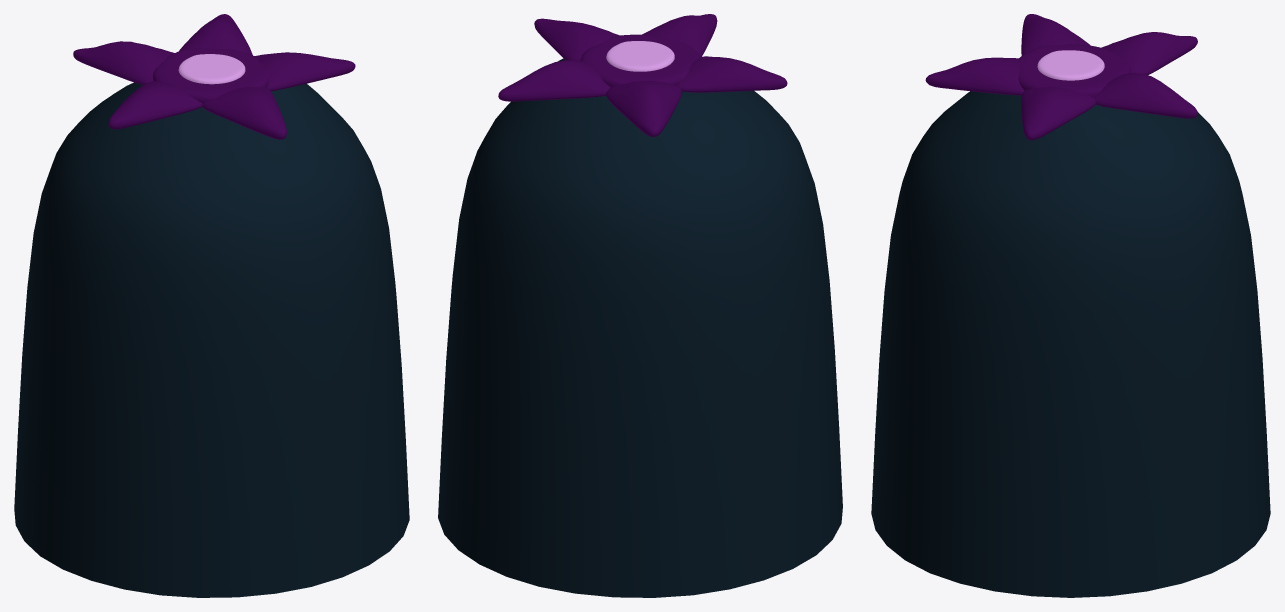
Rendered from cactus_flower.glb.
3 views of the same model, side by side, from view 1: azimuth 30°, elevation 25°; view 2: azimuth 150°, elevation 25°; view 3: azimuth 270°, elevation 25° (orthographic). The views are drawn at different scales.
Visible parts, largest first — view 1: kaktusblume; view 2: kaktusblume; view 3: kaktusblume.
Boxes of the visible parts, x1,y1,x2,y2 form: kaktusblume: (14, 14, 409, 597); kaktusblume: (438, 14, 842, 597); kaktusblume: (871, 14, 1270, 597).
Size of the model in its own units: 0.3374 by 0.4266 by 0.3374.
Materials: 1 (1 with a texture image).
